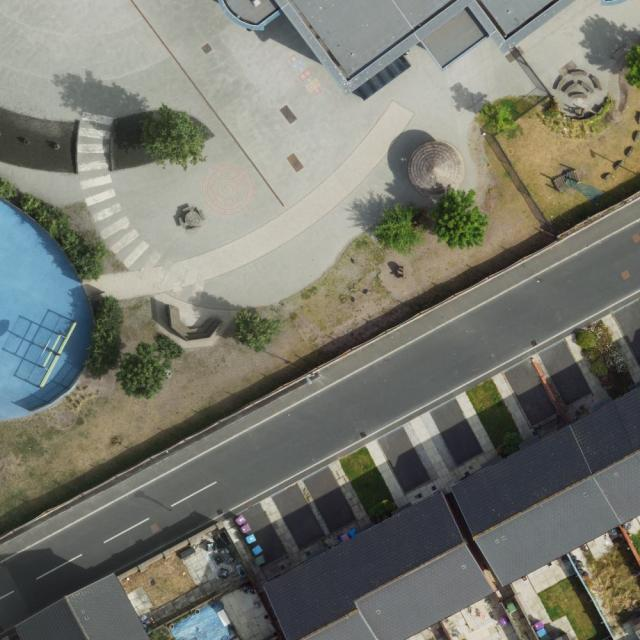roof: (454, 385, 640, 587), (218, 0, 580, 94), (268, 491, 496, 640), (14, 573, 152, 640)
